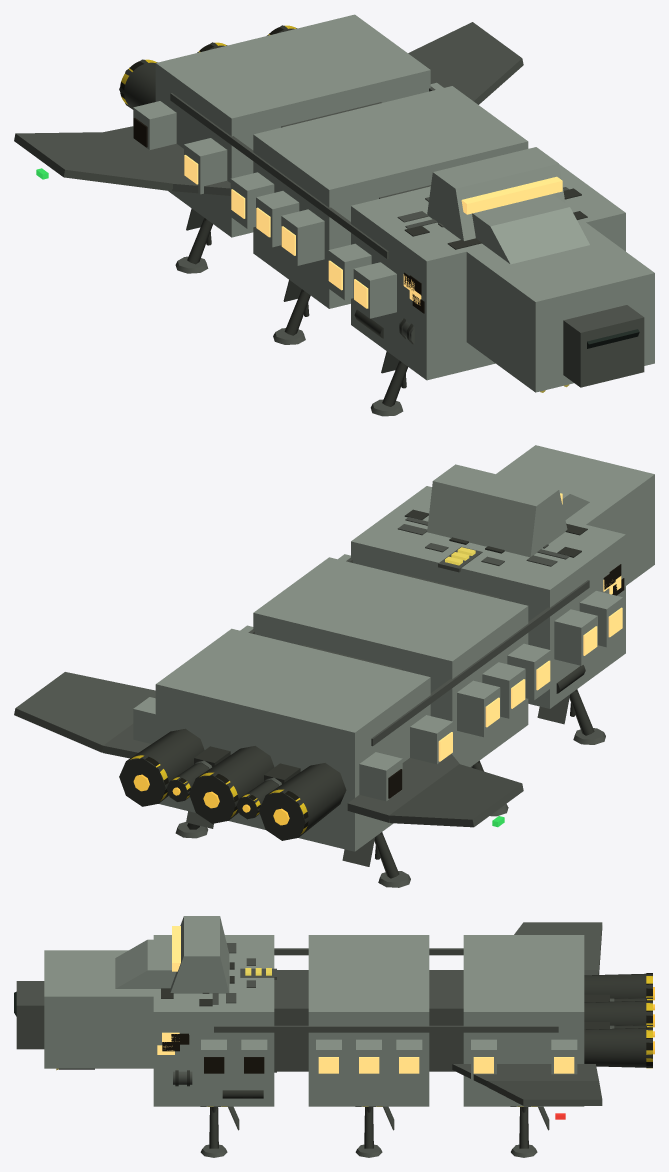
Rendered from liner-l.glb.
The picture shows the model from 3 angles, top to bottom: view 1: azimuth 30°, elevation 25°; view 2: azimuth 150°, elevation 25°; view 3: azimuth 270°, elevation 25°; orthographic projection. The views are drawn at different scales.
Visible parts, largest first — view 1: hullSection2, hullSection1, hullNose, hullMain, bridgeHouse, canopyFairing, wingOuterLeft, hullNoseTip, wingOuterRight, wingInnerLeft, accentStripeL, passengerPod1L (+8 smaller); view 2: hullSection2, hullSection1, hullMain, engineHousing (×5), bridgeHouse, hullNose, wingOuterRight, wingOuterLeft, wingInnerLeft, accentStripeL, passengerPod0L, passengerPod2L (+7 smaller); view 3: hullSection1, hullSection2, hullMain, hullNose, engineHousing (×3), bridgeHouse, gantry0, gantry1, canopyFairing, wingOuterRight, accentStripeR, hullNoseTip (+13 smaller).
Part boxes in pixels (x1,y1,x2,y2): hullSection2: (155,14,430,237); hullSection1: (253,86,528,308); hullNose: (462,219,654,392); hullMain: (351,164,625,380); bridgeHouse: (427,147,565,240); canopyFairing: (472,194,589,264); wingOuterLeft: (14,132,172,191); hullNoseTip: (563,305,644,387); wingOuterRight: (408,22,523,104); wingInnerLeft: (103,126,230,195); accentStripeL: (170,93,388,258); passengerPod1L: (353,262,396,318); hullSection2: (155,628,430,851); hullSection1: (253,557,528,767); hullMain: (351,486,625,708); engineHousing (×5): (119,728,346,840); bridgeHouse: (427,464,567,557); hullNose: (496,445,654,585); wingOuterRight: (14,672,155,752); wingOuterLeft: (389,764,523,827); wingInnerLeft: (347,754,459,822); accentStripeL: (371,580,589,746); passengerPod0L: (554,609,597,665); passengerPod2L: (457,680,500,737); hullSection1: (308,935,429,1106); hullSection2: (463,935,584,1106); hullMain: (153,935,274,1106); hullNose: (44,950,160,1068); engineHousing (×3): (584,973,652,1067); bridgeHouse: (170,916,229,993); gantry0: (274,970,308,1071); gantry1: (429,970,463,1071); canopyFairing: (115,939,176,988); wingOuterRight: (487,1081,602,1105); accentStripeR: (214,1025,558,1032); hullNoseTip: (16,981,44,1049).
Size of the model in its own units: 6.49 by 2.99 by 9.83.
